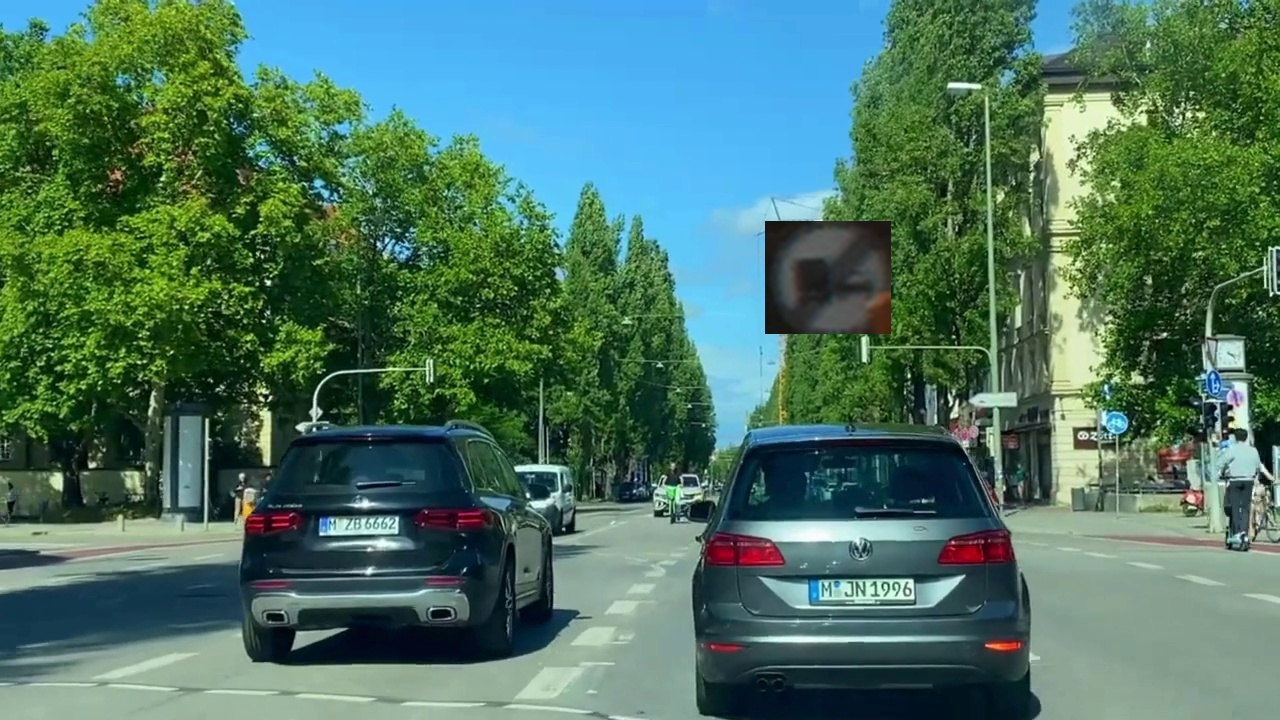End no pass >3.5t: (765, 221, 891, 334)
